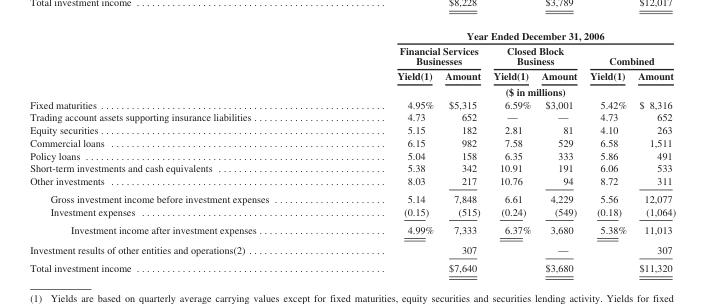table: (29, 29, 675, 273)
table column: (29, 29, 332, 273), (332, 29, 438, 273), (486, 29, 535, 273), (582, 29, 631, 273), (438, 29, 486, 273), (535, 29, 582, 273), (631, 29, 675, 273)
table column header: (29, 29, 675, 97)
table row: (29, 42, 675, 68), (29, 220, 675, 239), (29, 239, 675, 258), (29, 204, 675, 220), (29, 68, 675, 83), (29, 174, 675, 189), (29, 189, 675, 204), (29, 258, 675, 273), (29, 83, 675, 97), (29, 29, 675, 42), (29, 97, 675, 110), (29, 110, 675, 123), (29, 123, 675, 136), (29, 148, 675, 161), (29, 161, 675, 174), (29, 136, 675, 148)
table spanning cell: (332, 83, 675, 97), (332, 29, 675, 42), (332, 42, 486, 68), (486, 42, 582, 68), (582, 42, 675, 68)
